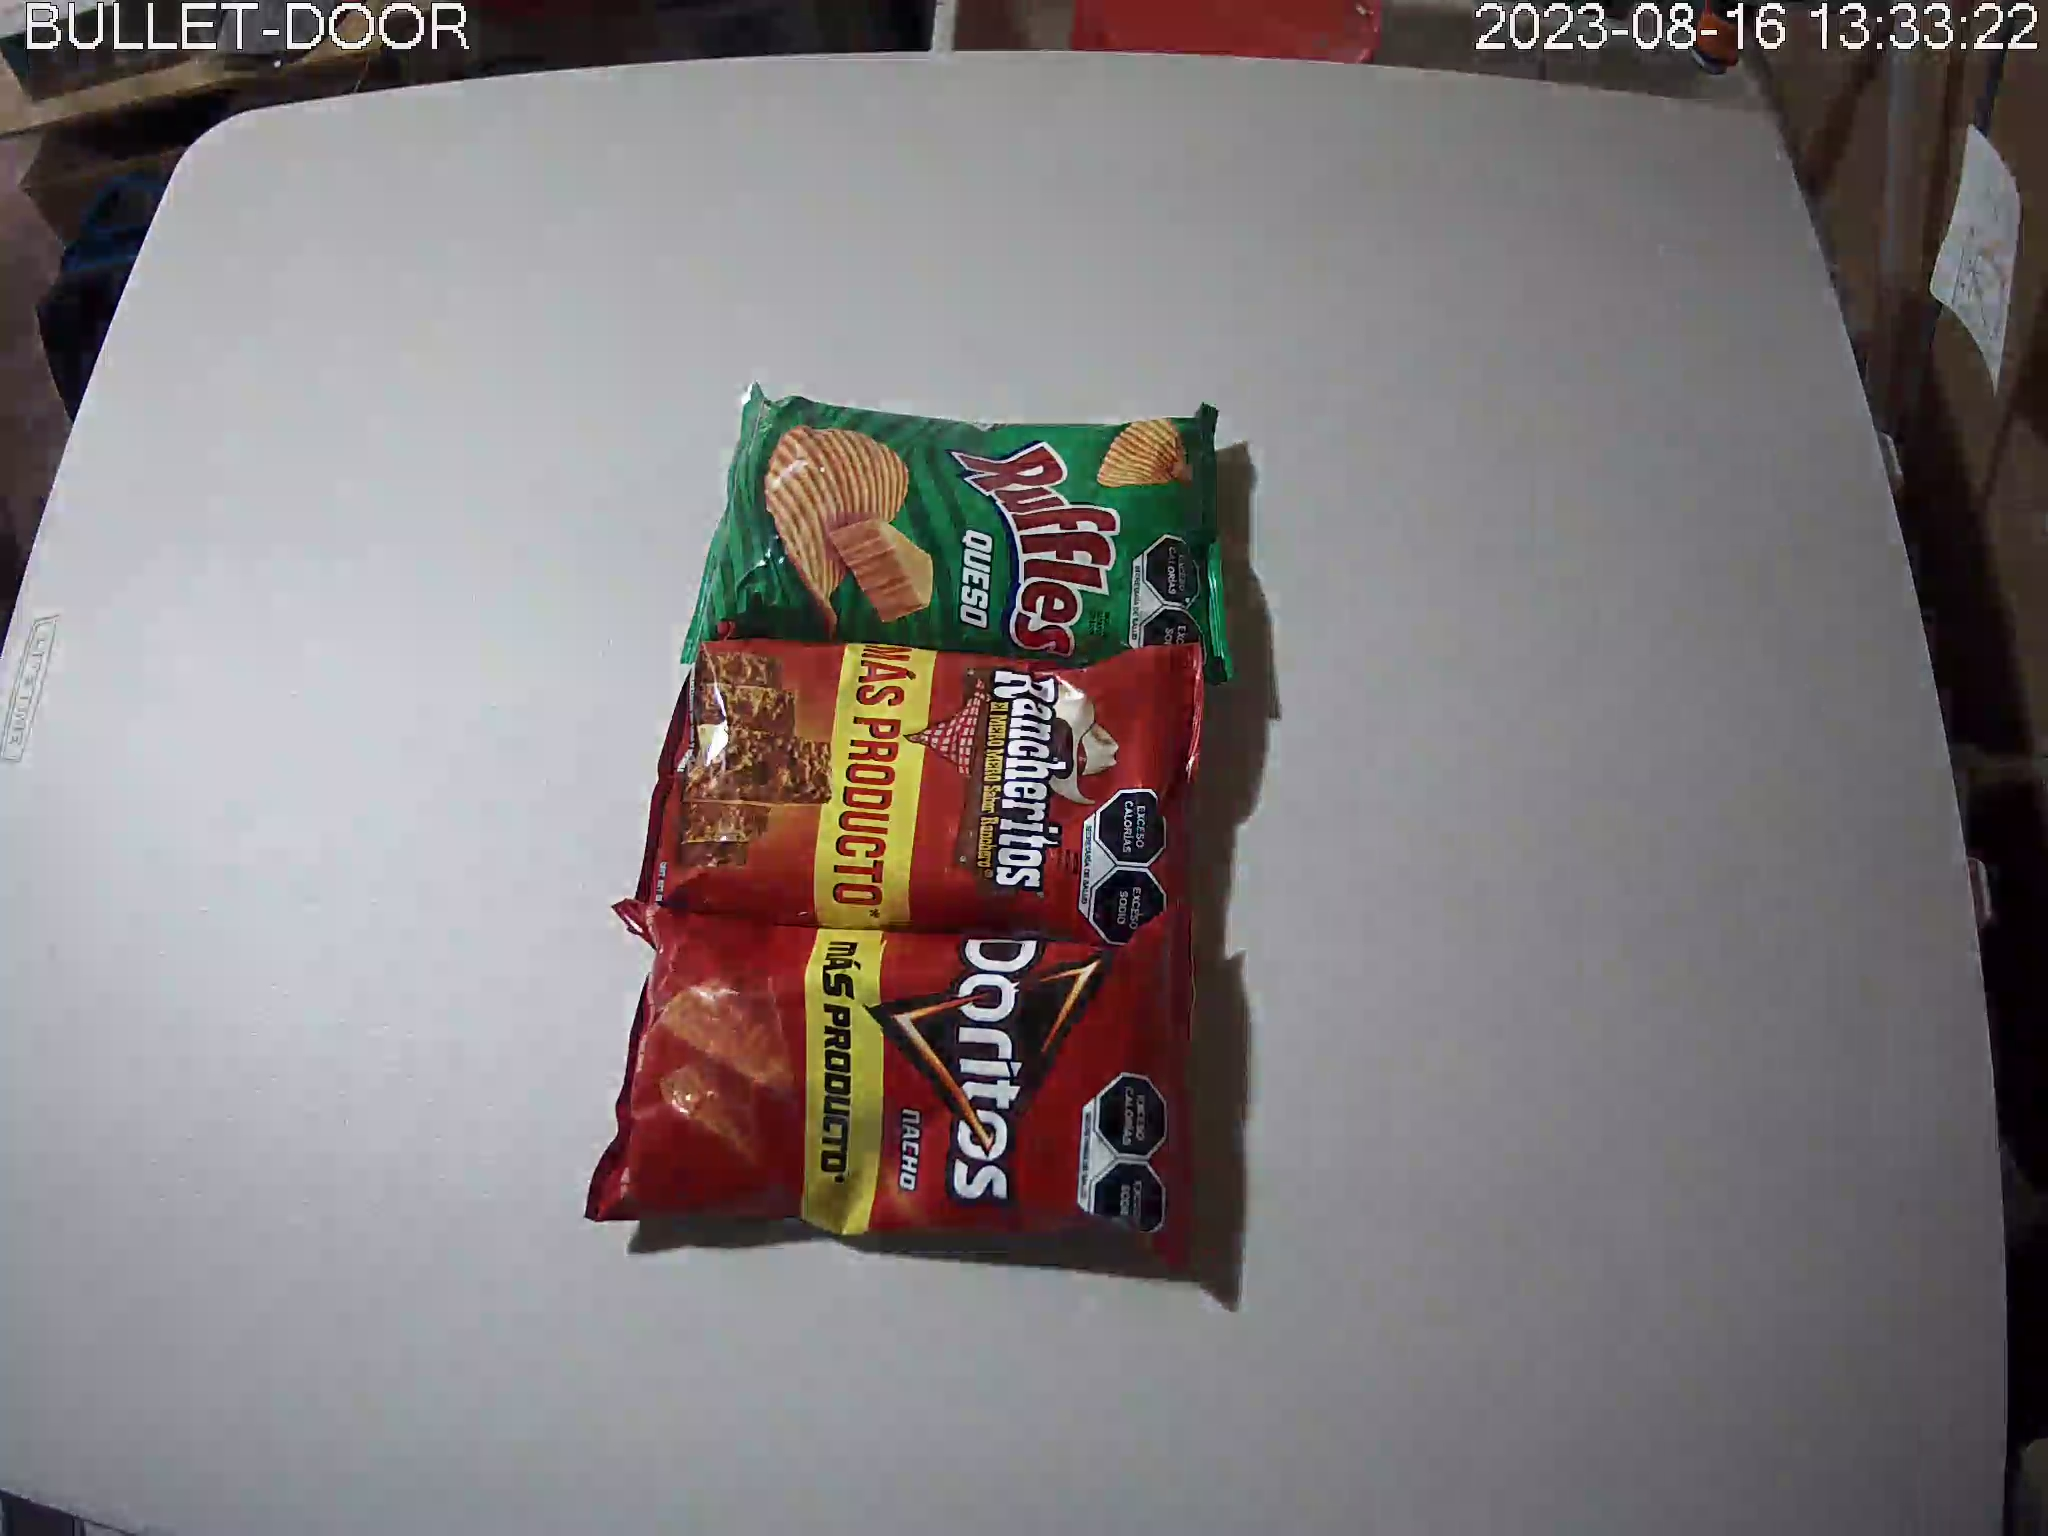DoritosN_61_F: (582, 892, 1198, 1279)
Rancheritos_58_F: (614, 644, 1201, 949)
RufflesQ_48_F: (679, 374, 1242, 689)
